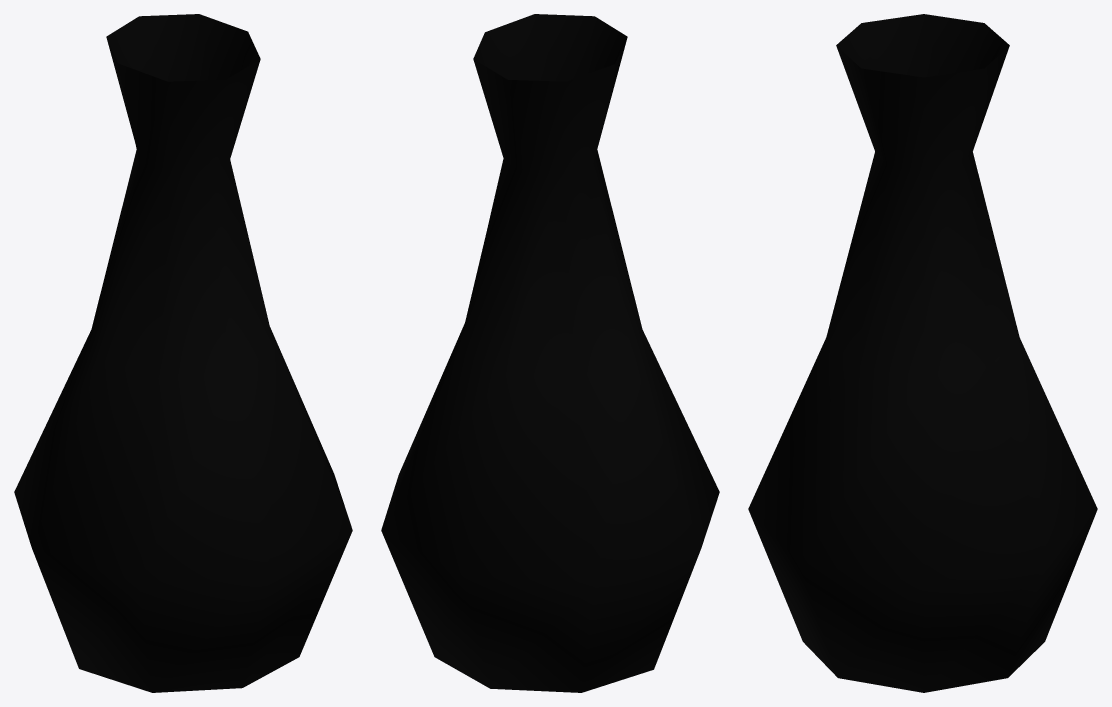
3 views of the same model, side by side, from view 1: azimuth 30°, elevation 25°; view 2: azimuth 150°, elevation 25°; view 3: azimuth 270°, elevation 25° (orthographic).
Visible parts, largest first — view 1: T1L6M005_28; view 2: T1L6M005_28; view 3: T1L6M005_28.
Boxes of the visible parts, bbox=[...] form: T1L6M005_28: bbox=[14, 14, 352, 692]; T1L6M005_28: bbox=[381, 14, 719, 692]; T1L6M005_28: bbox=[748, 14, 1097, 692].
Bounding box in the file's own units: 0.1748 × 0.3291 × 0.1748.
